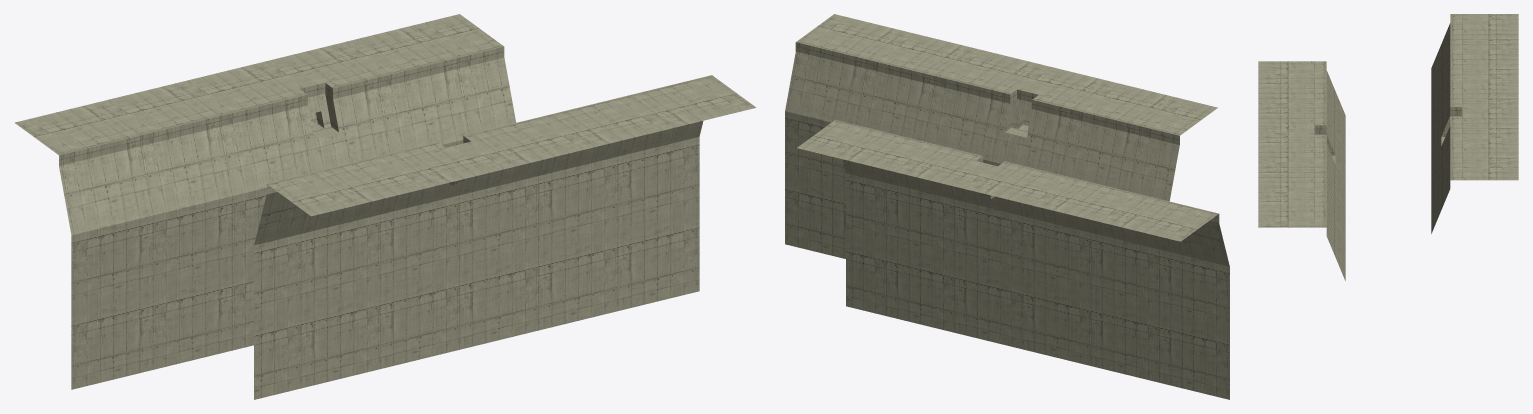
File: SM_NeoLD_11_Block_02.fbx
3 views of the same model, side by side, from view 1: azimuth 30°, elevation 25°; view 2: azimuth 150°, elevation 25°; view 3: azimuth 270°, elevation 25° (orthographic). The views are drawn at different scales.
Parts seen in each view (by area): view 1: SM_NeoLD_11_Block_02; view 2: SM_NeoLD_11_Block_02; view 3: SM_NeoLD_11_Block_02.
Part boxes in pixels (x1,y1,x2,y2): SM_NeoLD_11_Block_02: (14, 14, 756, 399); SM_NeoLD_11_Block_02: (785, 14, 1229, 399); SM_NeoLD_11_Block_02: (1258, 14, 1518, 280).
Bounding box in the file's own units: 18346 × 6905 × 9458.
